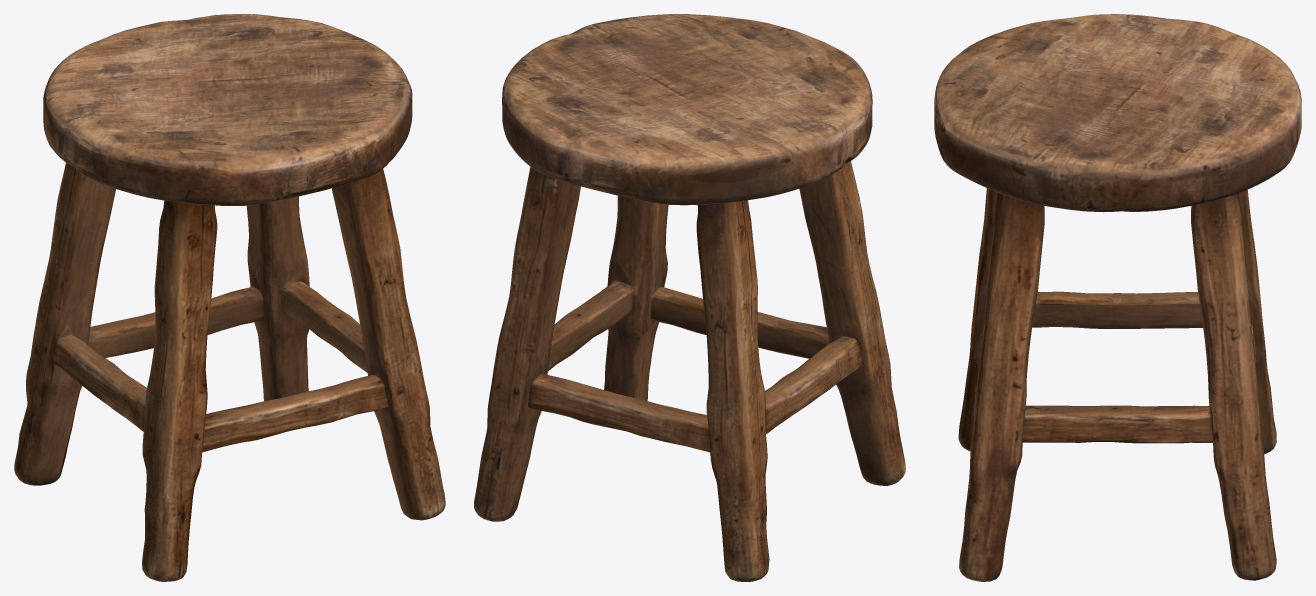
Rendered from model_glb.glb.
3 renders of one model, left to right at view 1: azimuth 30°, elevation 25°; view 2: azimuth 150°, elevation 25°; view 3: azimuth 270°, elevation 25°, orthographic. The views are drawn at different scales.
Visible parts, largest first — view 1: geometry_0; view 2: geometry_0; view 3: geometry_0.
Part boxes in pixels (<box>): geometry_0: <box>14,14,445,581</box>; geometry_0: <box>474,14,905,581</box>; geometry_0: <box>934,14,1301,581</box>.
Bounding box in the file's own units: 0.364 × 0.45 × 0.3529.
1 material, 1 textured.
